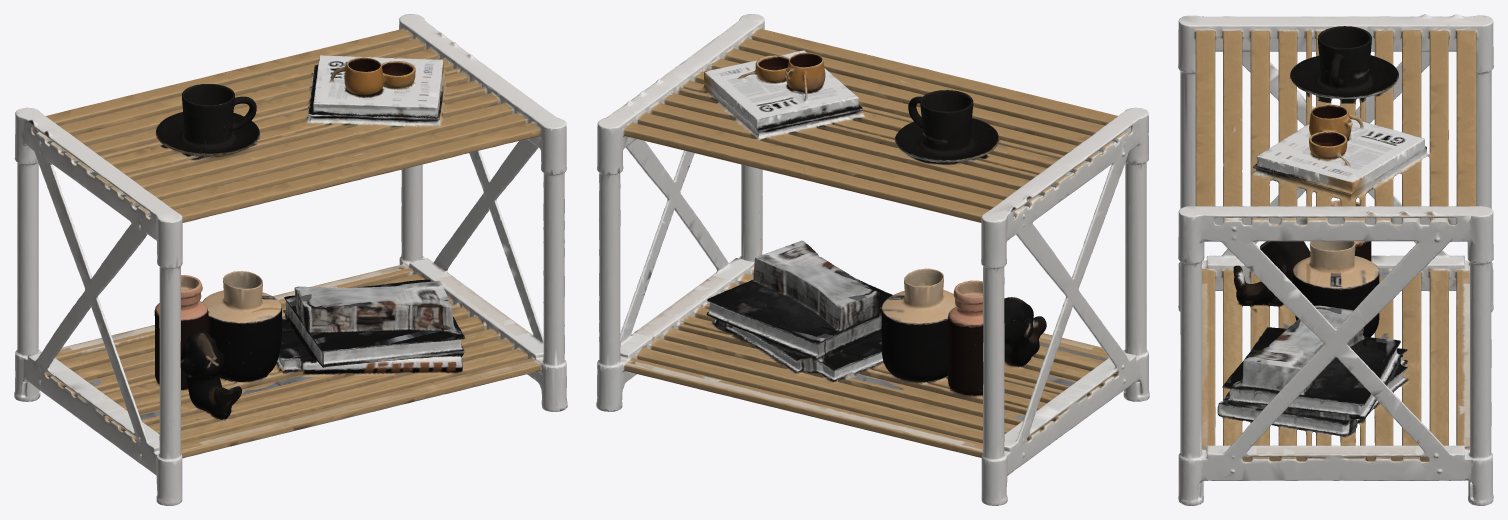
File: sehpa.glb
3 renders of one model, left to right at view 1: azimuth 30°, elevation 25°; view 2: azimuth 150°, elevation 25°; view 3: azimuth 270°, elevation 25°, orthographic.
Parts seen in each view (by area): view 1: Mesh_0; view 2: Mesh_0; view 3: Mesh_0.
Part boxes in pixels (<box>): Mesh_0: <box>14,14,567,505</box>; Mesh_0: <box>596,14,1149,505</box>; Mesh_0: <box>1178,14,1493,505</box>.
Bounding box in the file's own units: 1.9 × 1.43 × 1.25.
1 material, 1 textured.
